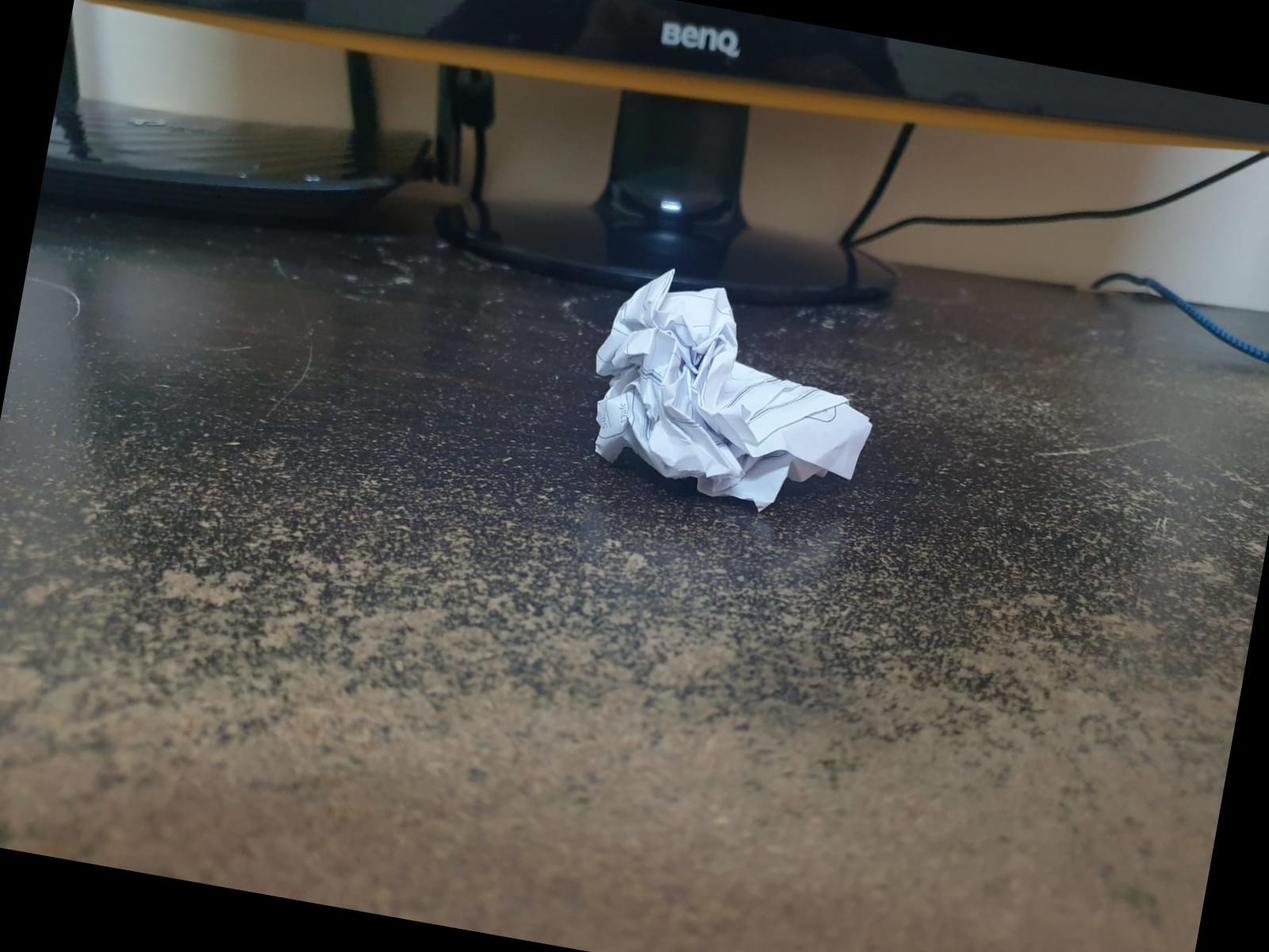Kertas: (595, 269, 872, 511)
